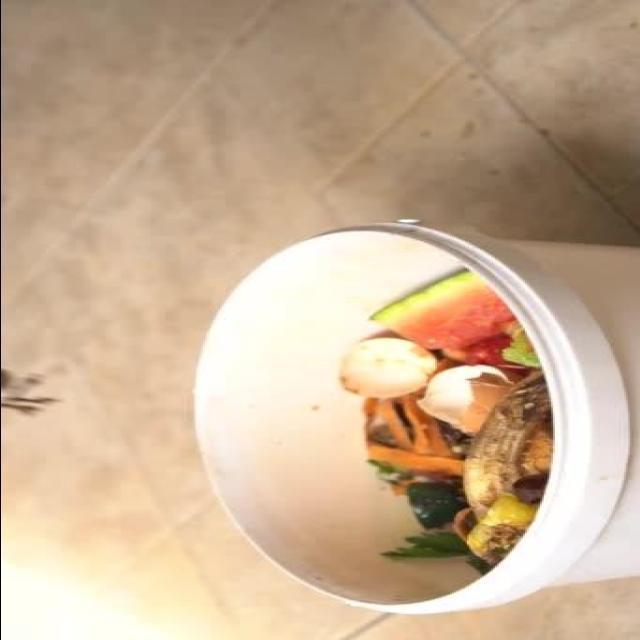Garbage: (331, 266, 551, 576)
